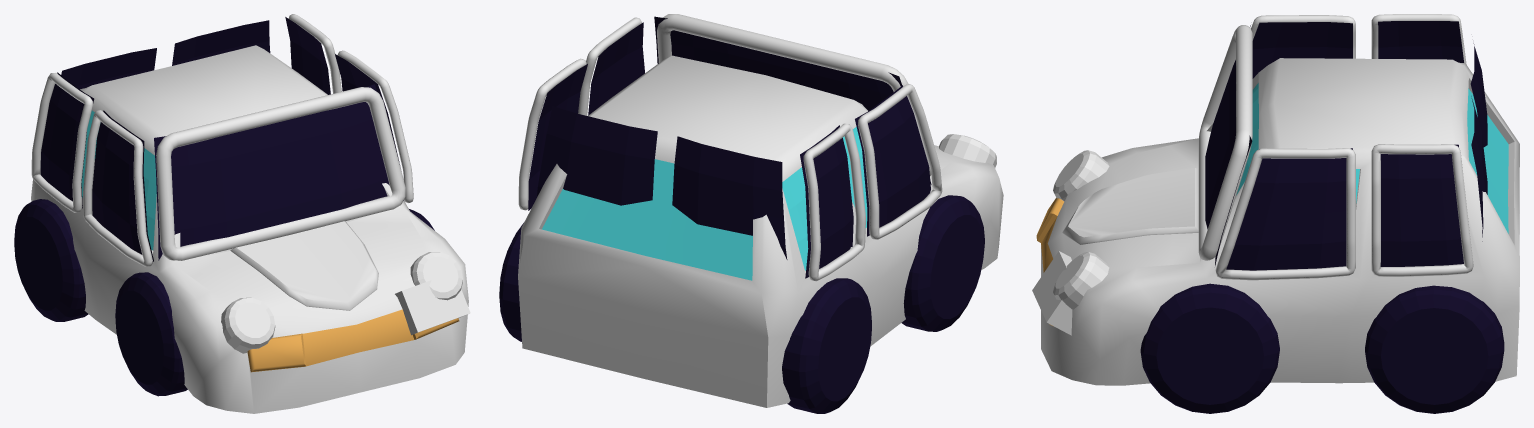
File: purplecar.fbx
3 renders of one model, left to right at view 1: azimuth 30°, elevation 25°; view 2: azimuth 150°, elevation 25°; view 3: azimuth 270°, elevation 25°, orthographic. The views are drawn at different scales.
Parts seen in each view (by area): view 1: Cube.008, Cube.001, Cube.011, Cube.002, glass, Cube.004, Cube.003, Cylinder, Cube.007, Cube.010; view 2: Cube.008, Cube.011, Cube.003, Cube.002, Cube.010, Cube.004, Cube.001, glass, Cylinder; view 3: Cube.008, Cube.011, Cube.002, Cube.004, glass, Cylinder, Cube.010, Cube.001, Cube.007, Cube.003.
Part boxes in pixels (x1,y1,x2,y2): Cube.008: (31,45,468,413); Cube.001: (154,84,403,260); Cube.011: (14,199,434,396); Cube.002: (40,17,400,261); glass: (156,87,405,260); Cube.004: (31,14,413,266); Cube.003: (61,20,270,89); Cylinder: (221,252,462,353); Cube.007: (395,280,470,335); Cube.010: (81,110,156,250); Cube.008: (518,55,1003,407); Cube.011: (499,195,984,413); Cube.003: (536,106,787,259); Cube.002: (528,22,930,278); Cube.010: (542,127,867,280); Cube.004: (518,17,942,281); Cube.001: (654,16,931,184); glass: (657,14,931,175); Cylinder: (939,134,996,167); Cube.008: (1036,58,1519,385); Cube.011: (1140,283,1504,413); Cube.002: (1226,21,1463,270); Cube.004: (1215,14,1473,280); glass: (1198,25,1252,260); Cylinder: (1053,150,1109,309); Cube.010: (1236,83,1508,233); Cube.001: (1205,25,1252,265); Cube.007: (1032,251,1072,335); Cube.003: (1470,43,1487,241).
Size of the model in its own units: 217 by 171 by 287.
